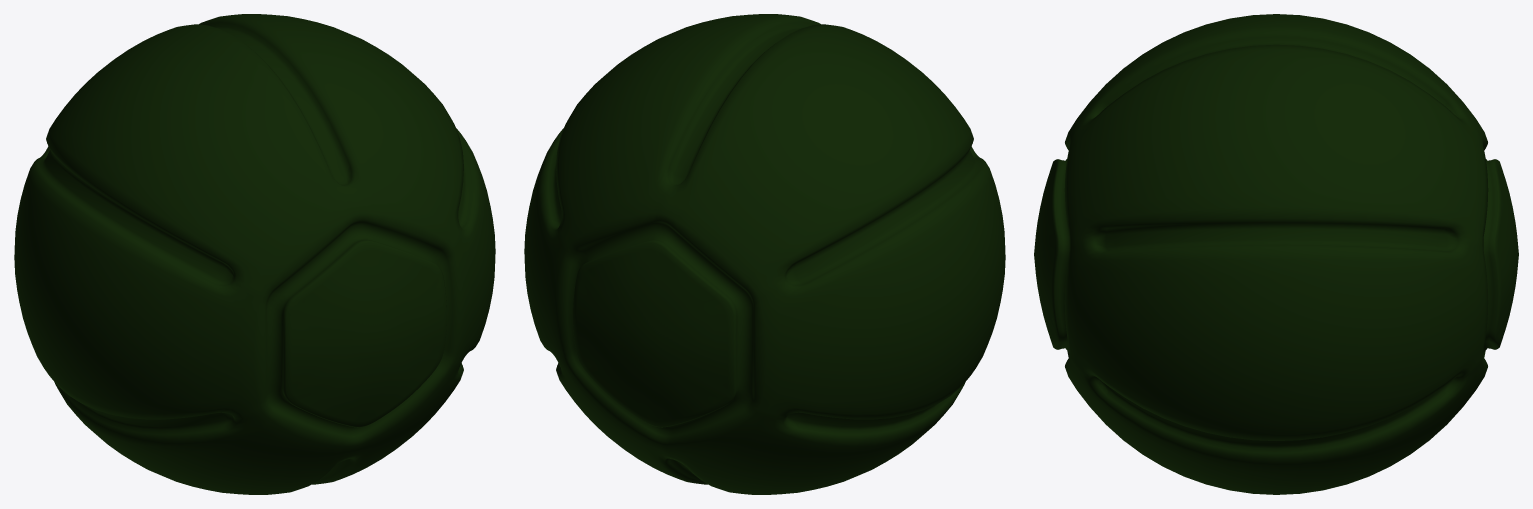
File: gyro_zeppelis_steel_ball_-_jjba_steel_ball_run.glb
3 renders of one model, left to right at view 1: azimuth 30°, elevation 25°; view 2: azimuth 150°, elevation 25°; view 3: azimuth 270°, elevation 25°, orthographic.
Visible parts, largest first — view 1: Sphere.005; view 2: Sphere.005; view 3: Sphere.005.
Boxes of the visible parts, left/top/right/bottom form: Sphere.005: left=14, top=14, right=495, bottom=494; Sphere.005: left=524, top=14, right=1005, bottom=494; Sphere.005: left=1034, top=14, right=1518, bottom=494.
Bounding box in the file's own units: 1.91 × 1.9 × 1.92.
